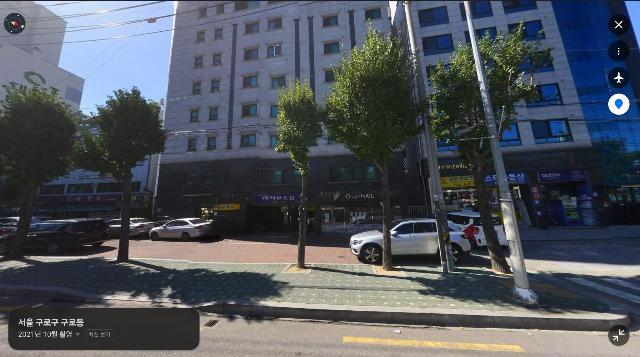other: (426, 28, 555, 275), (324, 16, 425, 272), (0, 81, 89, 261), (83, 84, 168, 264), (273, 74, 326, 270)
